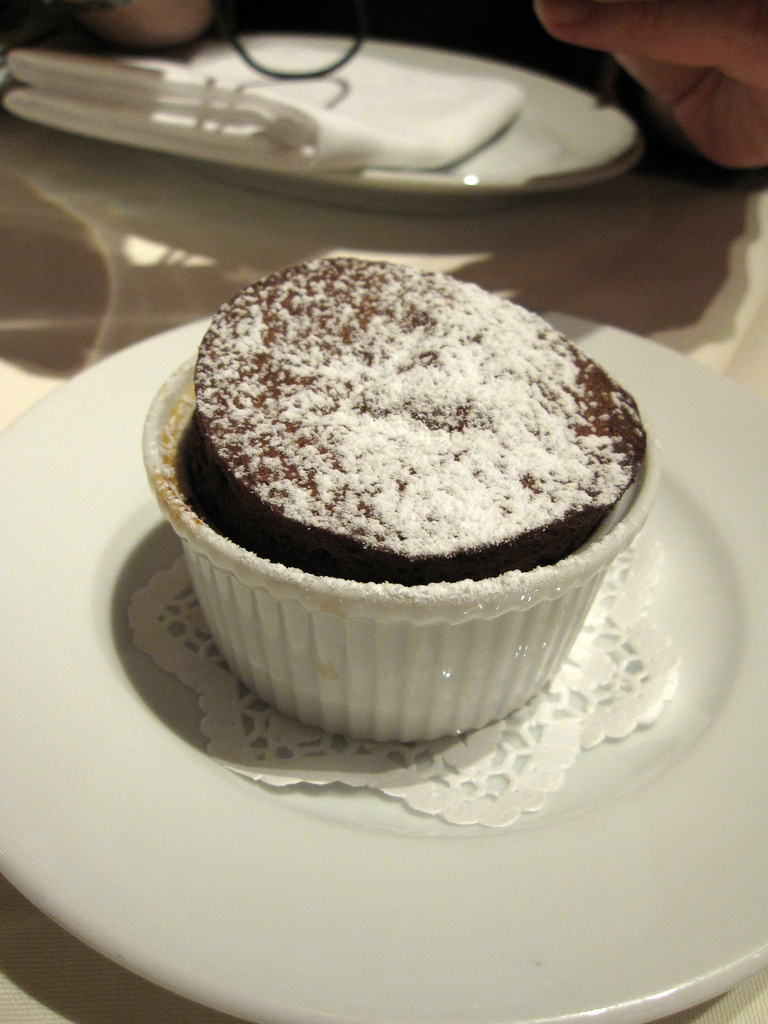person: (0, 0, 221, 58)
